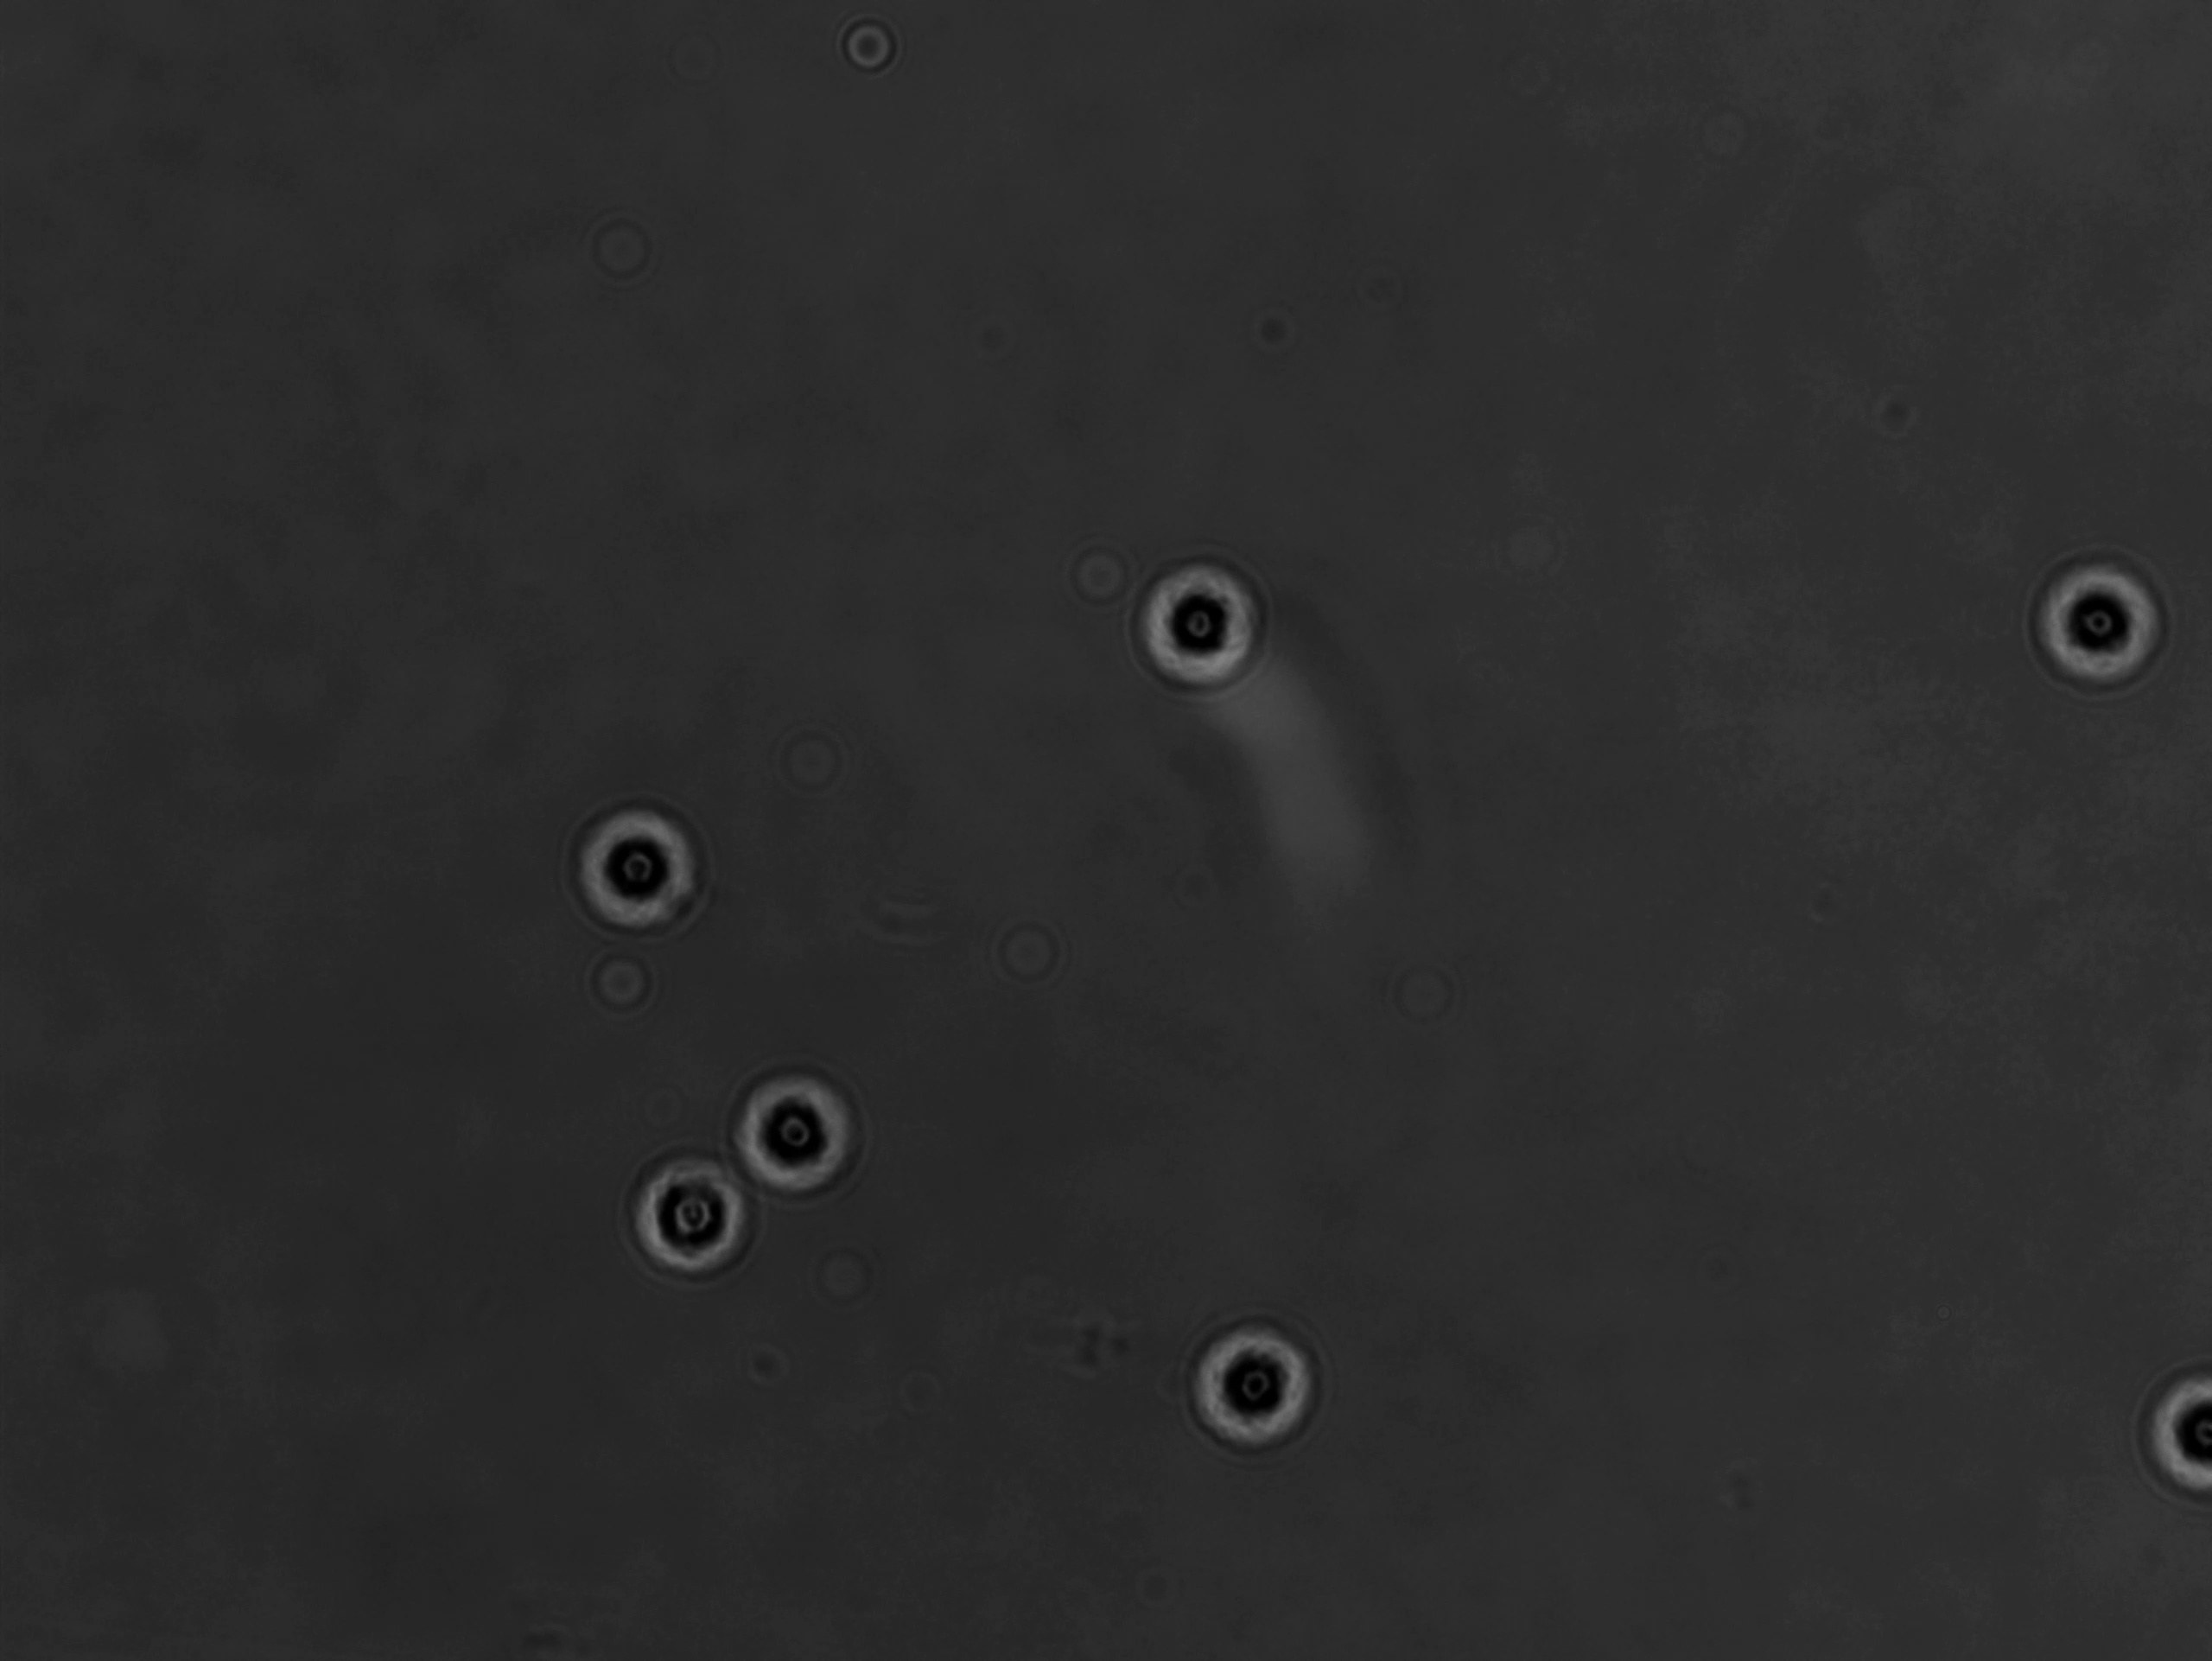depth:-20: (2011, 520, 2196, 701), (1167, 1291, 1347, 1476), (553, 766, 727, 940), (1122, 523, 1293, 694), (604, 1139, 785, 1300), (727, 1049, 891, 1213)
